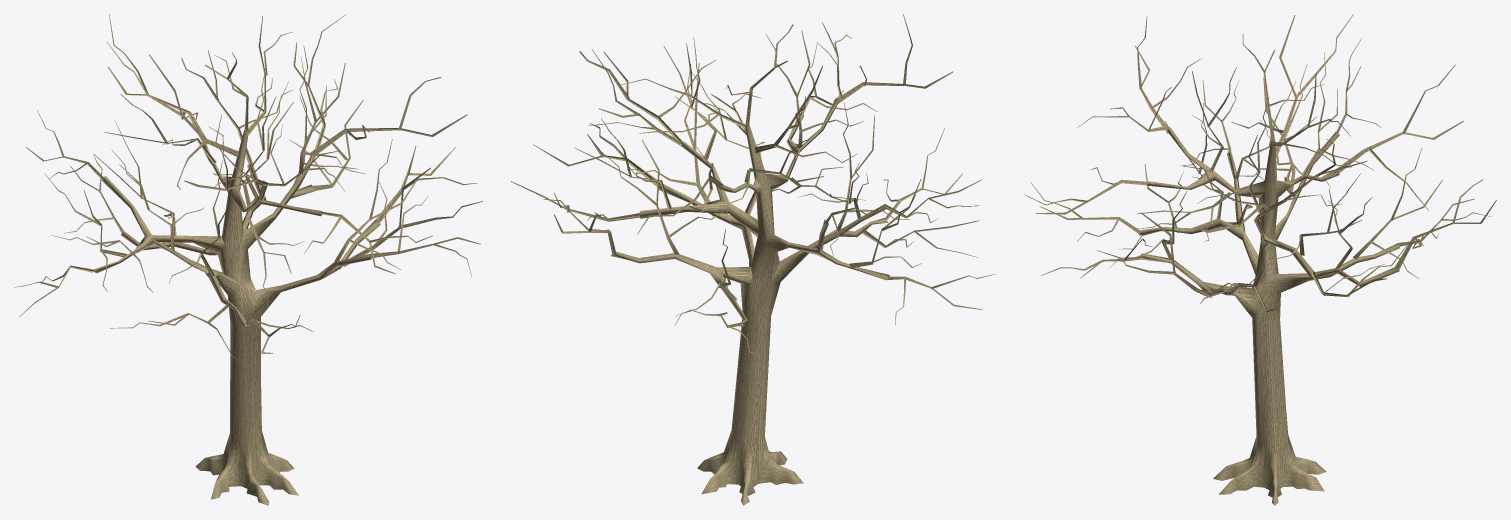
File: INST_HTOWN_APPLETREE.fbx
3 views of the same model, side by side, from view 1: azimuth 30°, elevation 25°; view 2: azimuth 150°, elevation 25°; view 3: azimuth 270°, elevation 25° (orthographic). The views are drawn at different scales.
Visible parts, largest first — view 1: INST_HTOWN_APPLETREE; view 2: INST_HTOWN_APPLETREE; view 3: INST_HTOWN_APPLETREE.
Part boxes in pixels (bbox=[...]): INST_HTOWN_APPLETREE: bbox=[14, 14, 482, 505]; INST_HTOWN_APPLETREE: bbox=[511, 14, 995, 505]; INST_HTOWN_APPLETREE: bbox=[1024, 14, 1496, 505].
Bounding box in the file's own units: 59123 × 56096 × 55251.
6 materials, 6 textured.
